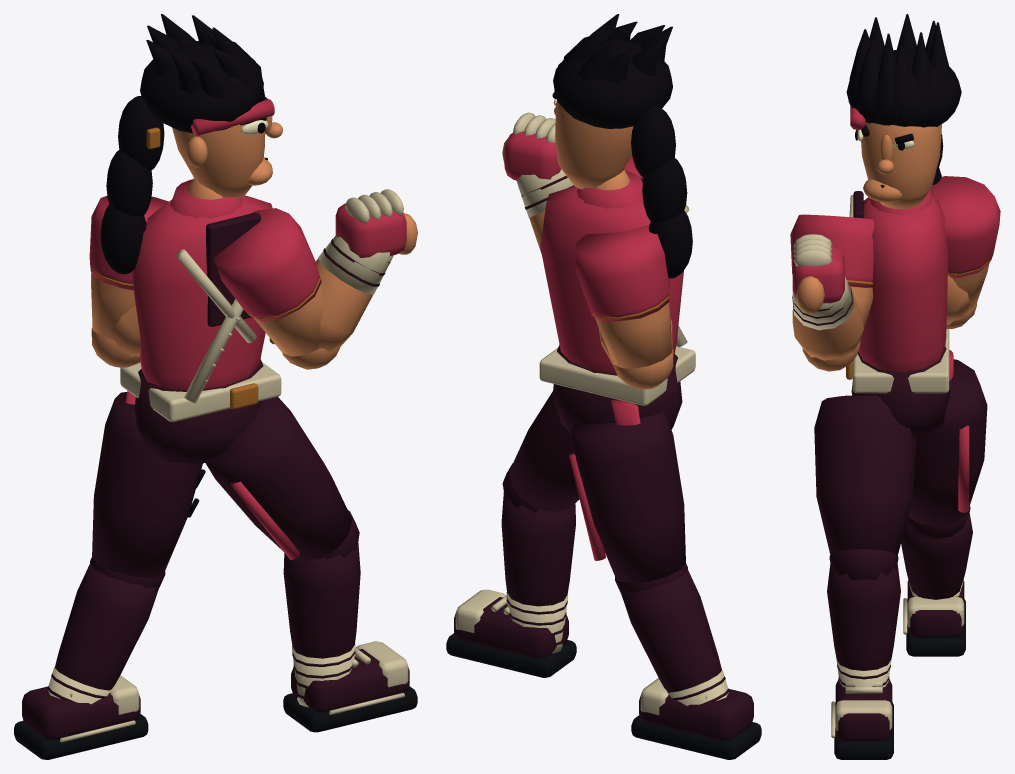
The model's file is mei-rig-v3.glb.
3 renders of one model, left to right at view 1: azimuth 30°, elevation 25°; view 2: azimuth 150°, elevation 25°; view 3: azimuth 270°, elevation 25°, orthographic. The views are drawn at different scales.
Visible parts, largest first — view 1: mei__torso_surface, mei__head_surface, mei__thighF_surface, mei__thighB_surface, mei__upperArmF_surface, mei__shinB_surface, mei__shinF_surface, mei__footF_surface, mei__footB_surface, mei__pelvis_surface, mei__forearmF_surface, mei__upperArmB_surface (+2 smaller); view 2: mei__head_surface, mei__thighB_surface, mei__torso_surface, mei__upperArmB_surface, mei__shinB_surface, mei__shinF_surface, mei__footF_surface, mei__footB_surface, mei__thighF_surface, mei__pelvis_surface, mei__handF_surface, mei__forearmF_surface (+1 smaller); view 3: mei__torso_surface, mei__head_surface, mei__thighF_surface, mei__thighB_surface, mei__shinF_surface, mei__upperArmB_surface, mei__footF_surface, mei__upperArmF_surface, mei__shinB_surface, mei__footB_surface, mei__forearmF_surface, mei__handF_surface (+2 smaller).
Part boxes in pixels (left/top/right/bottom): mei__torso_surface: left=120, top=179, right=281, bottom=421; mei__head_surface: left=100, top=14, right=282, bottom=274; mei__thighF_surface: left=205, top=397, right=359, bottom=560; mei__thighB_surface: left=90, top=392, right=205, bottom=591; mei__upperArmF_surface: left=214, top=208, right=340, bottom=369; mei__shinB_surface: left=47, top=563, right=158, bottom=704; mei__shinF_surface: left=283, top=541, right=360, bottom=707; mei__footF_surface: left=283, top=641, right=417, bottom=732; mei__footB_surface: left=14, top=675, right=148, bottom=759; mei__pelvis_surface: left=134, top=359, right=263, bottom=463; mei__forearmF_surface: left=315, top=235, right=393, bottom=352; mei__upperArmB_surface: left=89, top=196, right=168, bottom=367; mei__head_surface: left=552, top=14, right=692, bottom=278; mei__thighB_surface: left=569, top=411, right=687, bottom=595; mei__torso_surface: left=539, top=170, right=695, bottom=405; mei__upperArmB_surface: left=575, top=224, right=673, bottom=389; mei__shinB_surface: left=621, top=569, right=729, bottom=705; mei__shinF_surface: left=501, top=492, right=575, bottom=653; mei__footF_surface: left=446, top=589, right=576, bottom=677; mei__footB_surface: left=631, top=678, right=761, bottom=759; mei__thighF_surface: left=502, top=391, right=579, bottom=512; mei__pelvis_surface: left=552, top=345, right=682, bottom=434; mei__handF_surface: left=502, top=112, right=561, bottom=180; mei__forearmF_surface: left=516, top=169, right=574, bottom=253; mei__torso_surface: left=846, top=190, right=949, bottom=393; mei__head_surface: left=846, top=14, right=961, bottom=209; mei__thighF_surface: left=814, top=395, right=916, bottom=580; mei__thighB_surface: left=906, top=359, right=987, bottom=539; mei__shinF_surface: left=827, top=564, right=900, bottom=687; mei__upperArmB_surface: left=930, top=176, right=1000, bottom=328; mei__footF_surface: left=831, top=678, right=893, bottom=759; mei__upperArmF_surface: left=790, top=214, right=874, bottom=371; mei__shinB_surface: left=901, top=513, right=972, bottom=599; mei__footB_surface: left=903, top=580, right=965, bottom=656; mei__forearmF_surface: left=792, top=277, right=863, bottom=360; mei__handF_surface: left=792, top=234, right=844, bottom=313.
Size of the model in its own units: 1.75 by 3.48 by 1.02.
